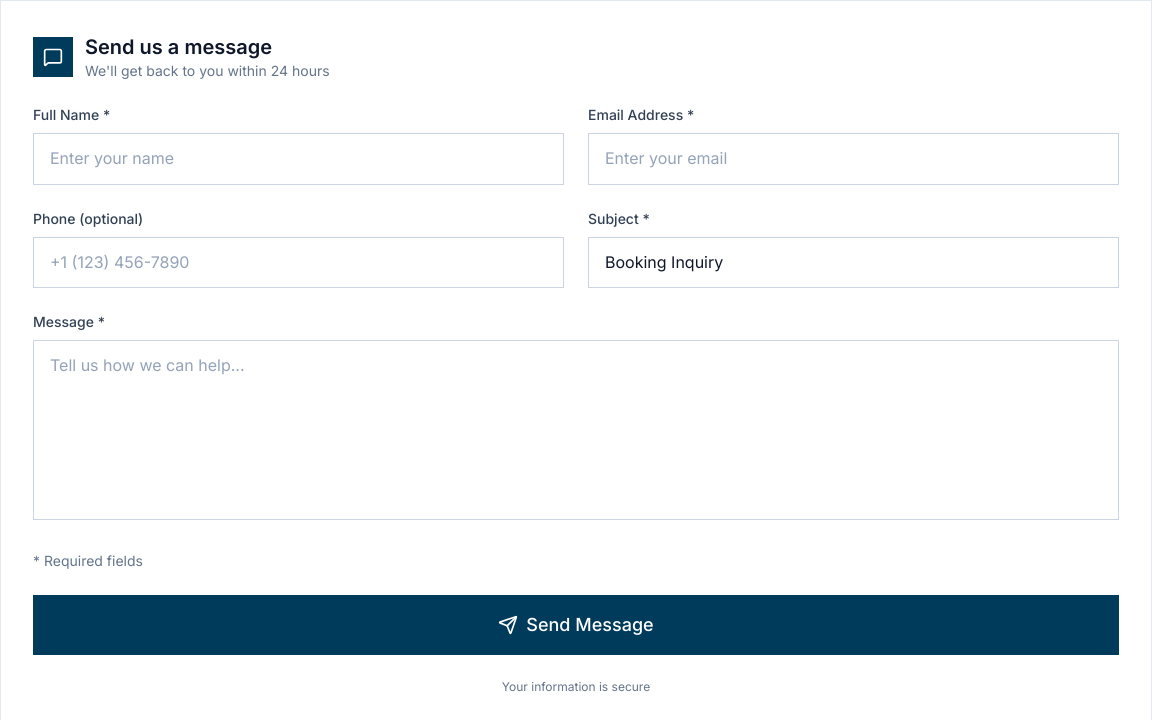
Test: ContactForm › clears field error when user types
# Submit empty to trigger errors
Click the button "Send Message" at (576, 625), box [33,595,1119,655]
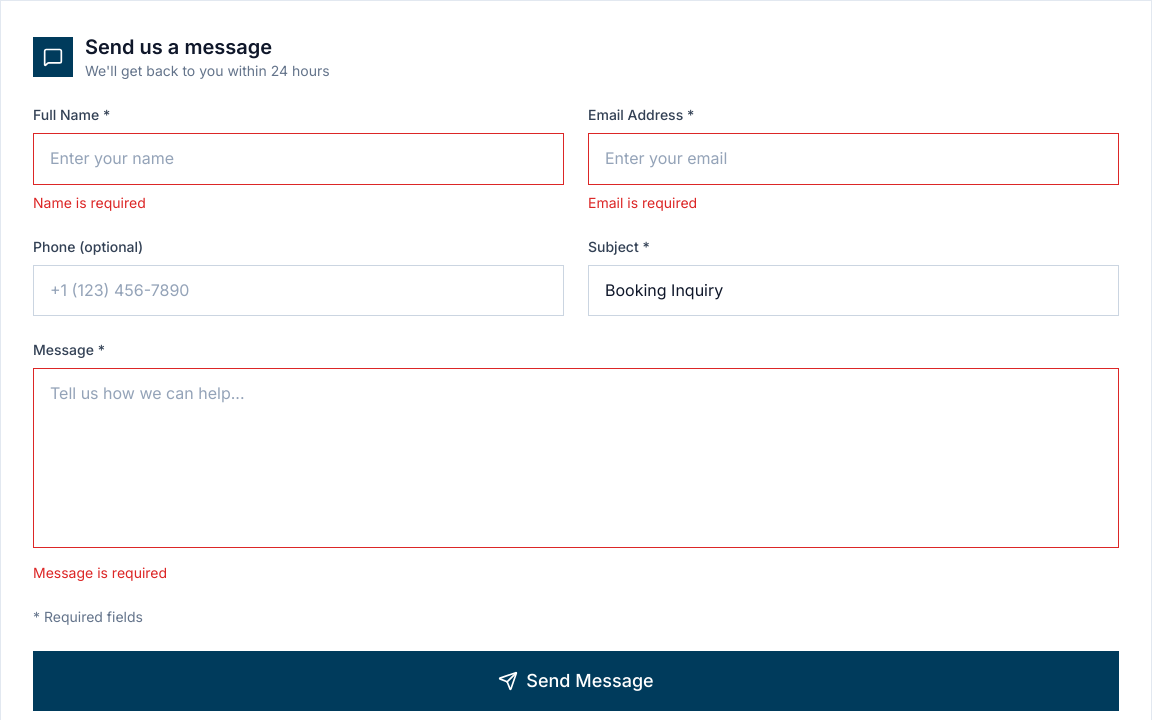
Expected: the text "Name is required" is shown, [33,194,146,211]
# Type in name field
Type "John" into the field with placeholder "Enter your name" at (298, 159), box [33,133,564,185]
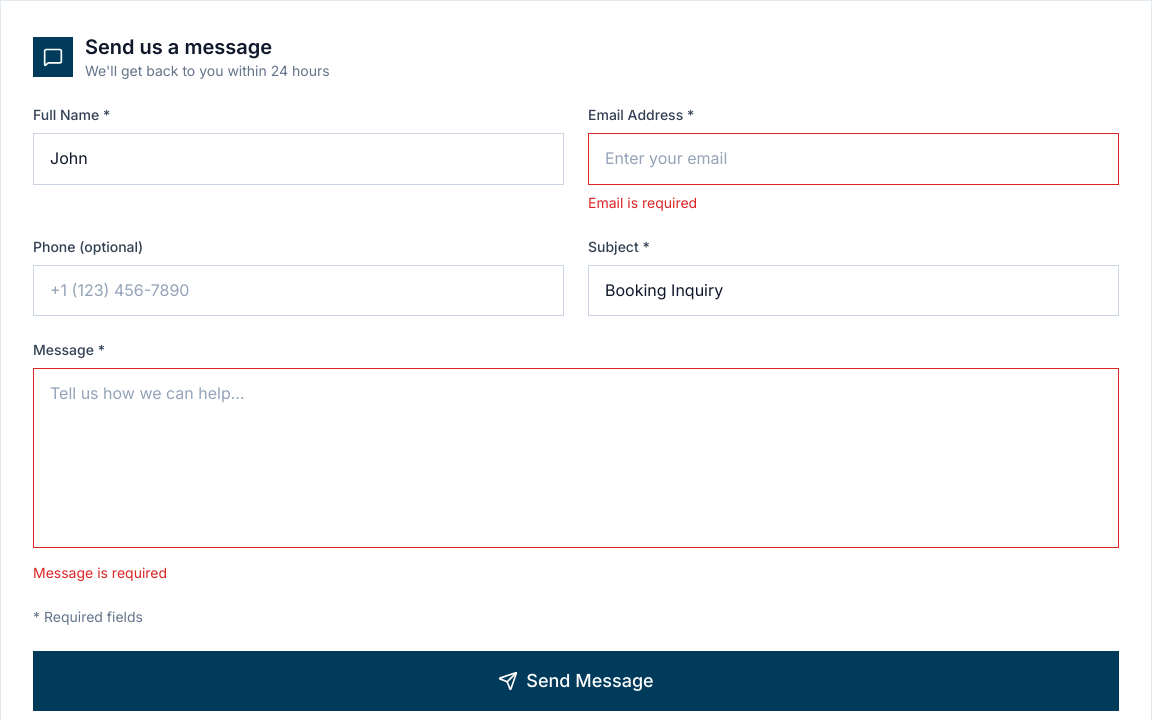
Expected: the text "Name is required" is gone
